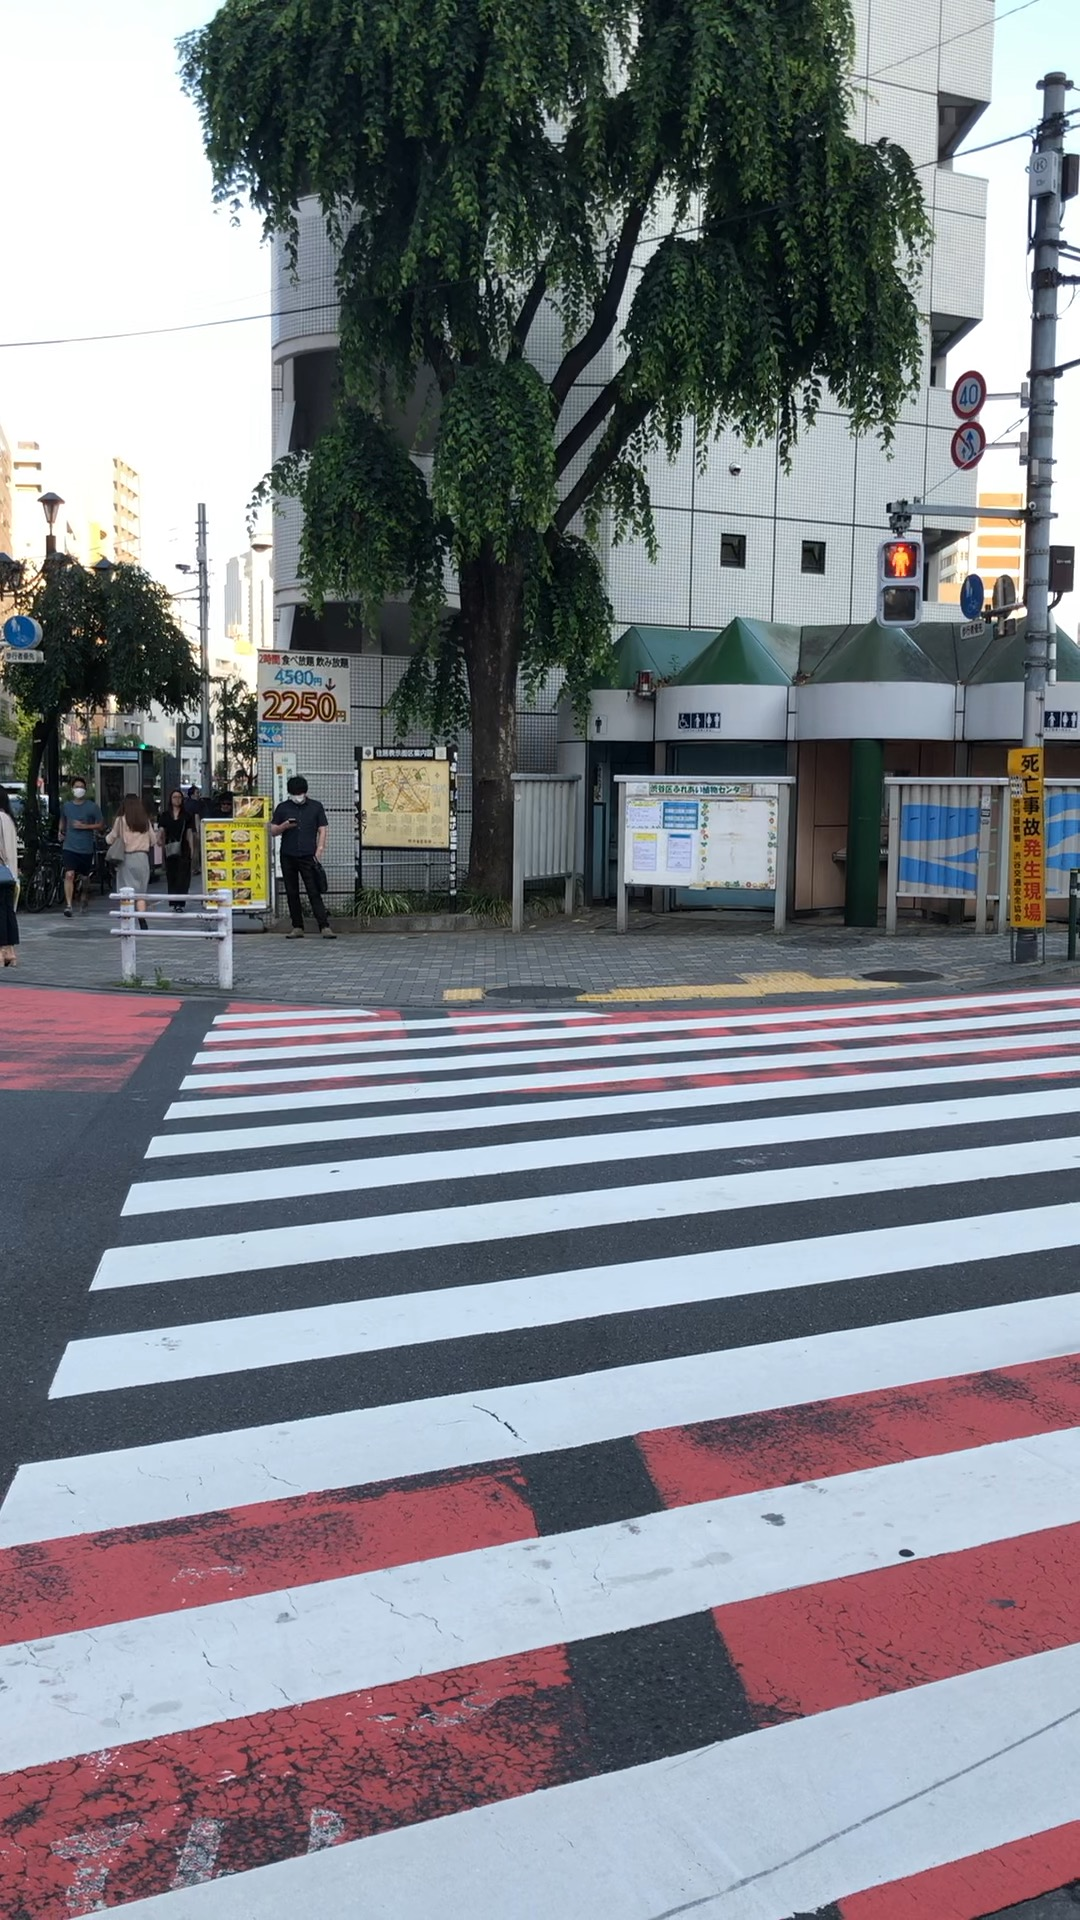red: (876, 538, 922, 625)
